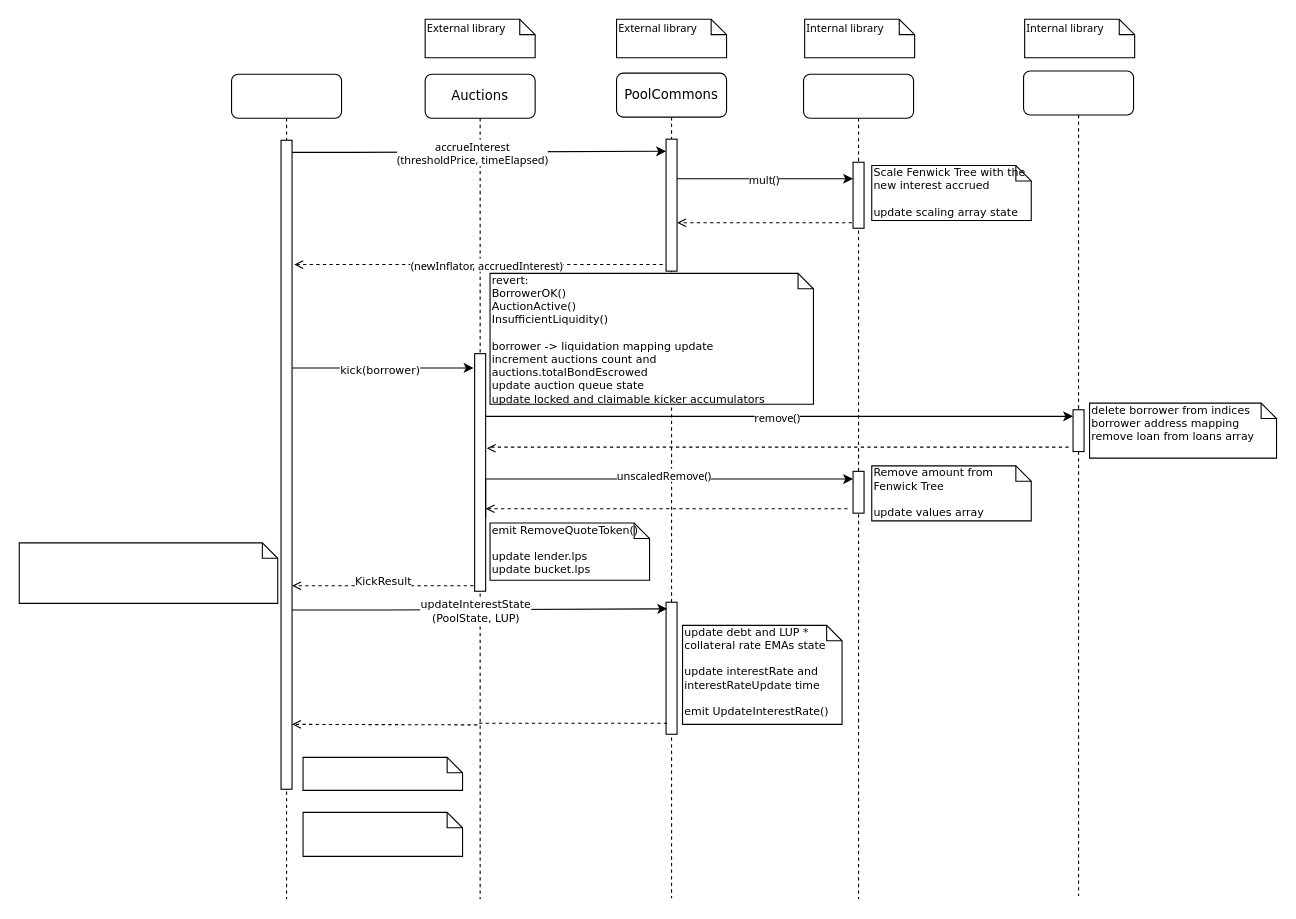
Some shapes in this 1296 by 919 pixel diagram are drawn without their labels. Each missing label, with the box of its shape:
Deposits: (802, 73, 914, 899)
emit Kick() increment poolBalances.t0DebtInAuction increment poolBalances.t0Debt: (18, 542, 278, 603)
Loans: (1022, 70, 1134, 896)
Pool: (230, 73, 342, 899)
transfer quote token from sender to pool contract: (302, 811, 463, 856)
update inflator update inflatorUpdate time: (302, 756, 463, 790)
